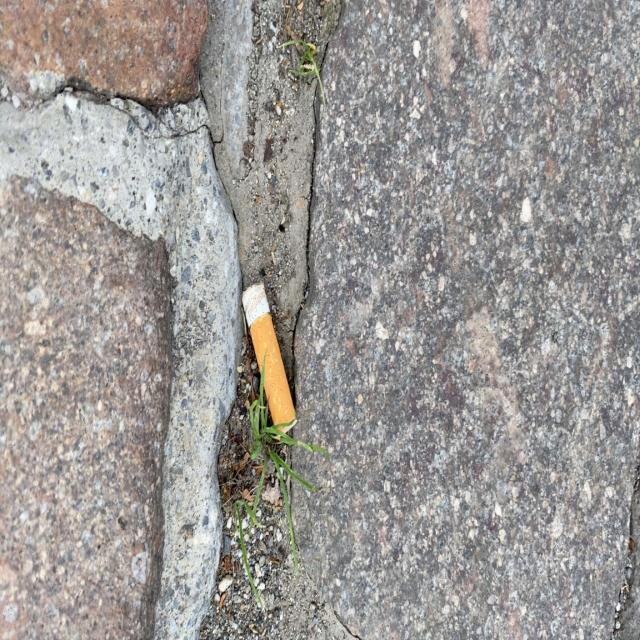other waste: (240, 278, 298, 442)
